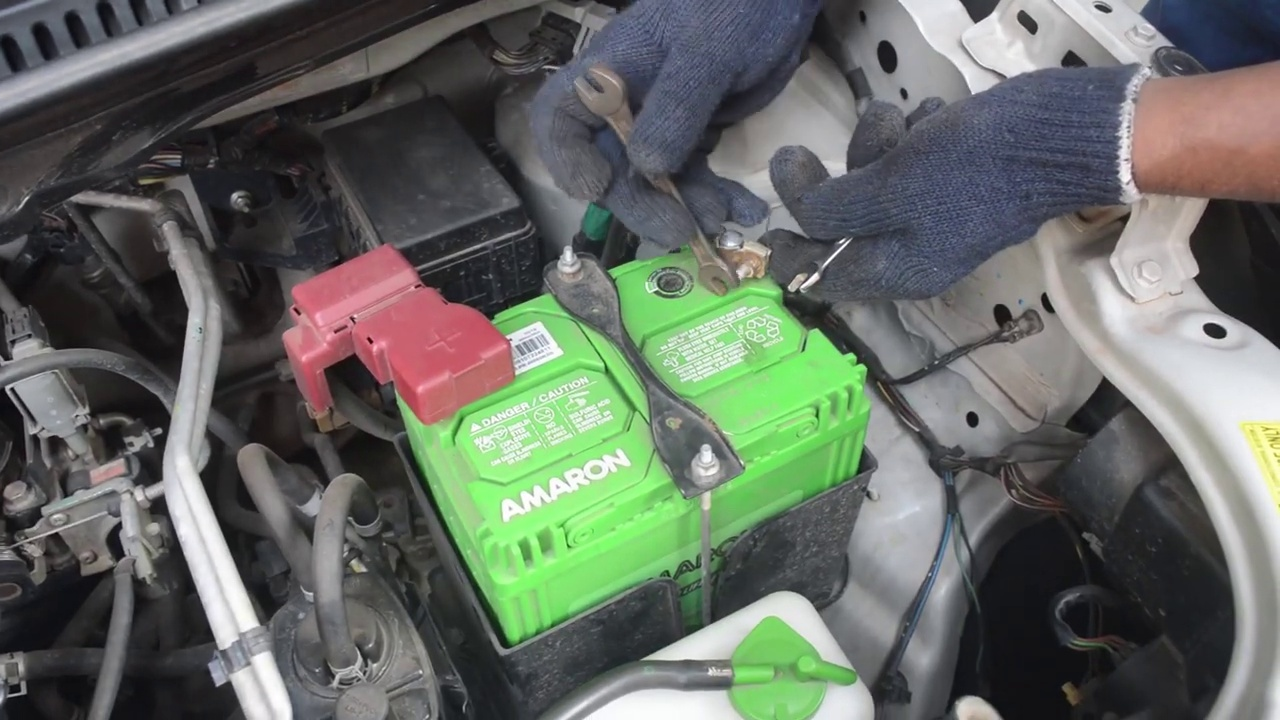battery: (342, 229, 868, 557)
neg_connected: (698, 208, 776, 298)
neg_touched: (578, 70, 840, 300)
pos_touched: (317, 243, 518, 418)
